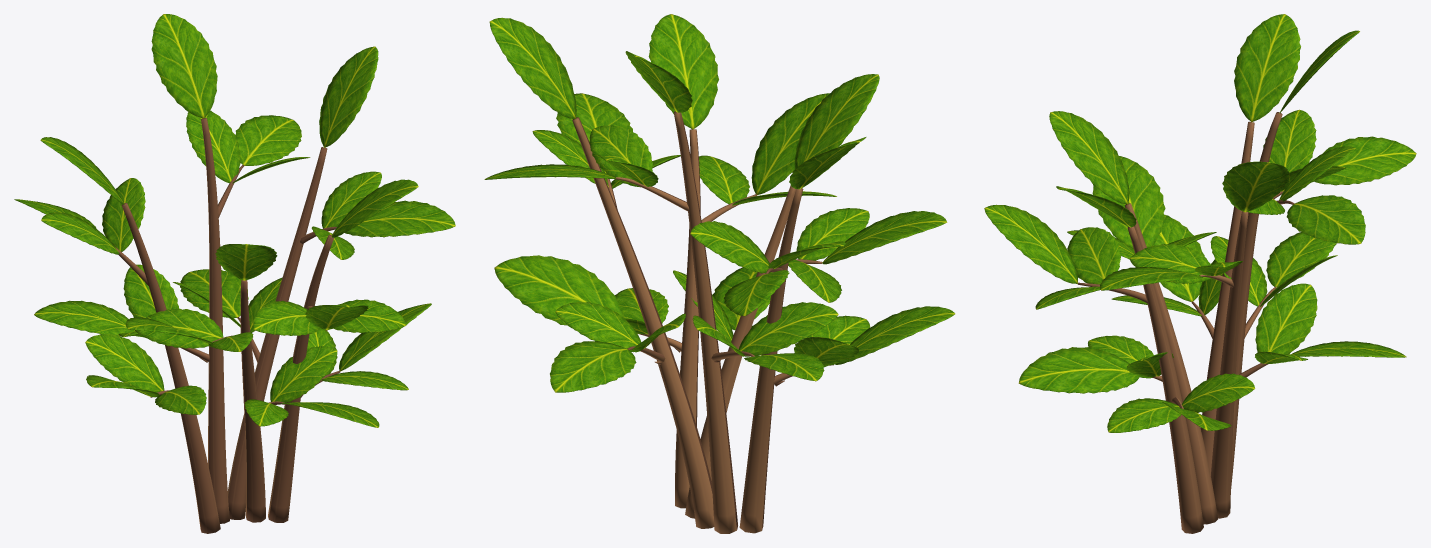
The model's file is NP_Raspberry_Young.fbx.
The picture shows the model from 3 angles, left to right: view 1: azimuth 30°, elevation 25°; view 2: azimuth 150°, elevation 25°; view 3: azimuth 270°, elevation 25°; orthographic projection. The views are drawn at different scales.
Visible parts, largest first — view 1: NP_Raspberry_Young; view 2: NP_Raspberry_Young; view 3: NP_Raspberry_Young.
Part boxes in pixels (box(x1,y1,x2,y2)): NP_Raspberry_Young: box(14, 14, 455, 533); NP_Raspberry_Young: box(484, 14, 955, 533); NP_Raspberry_Young: box(984, 14, 1416, 533).
Size of the model in its own units: 45.47 by 53.7 by 43.78.
